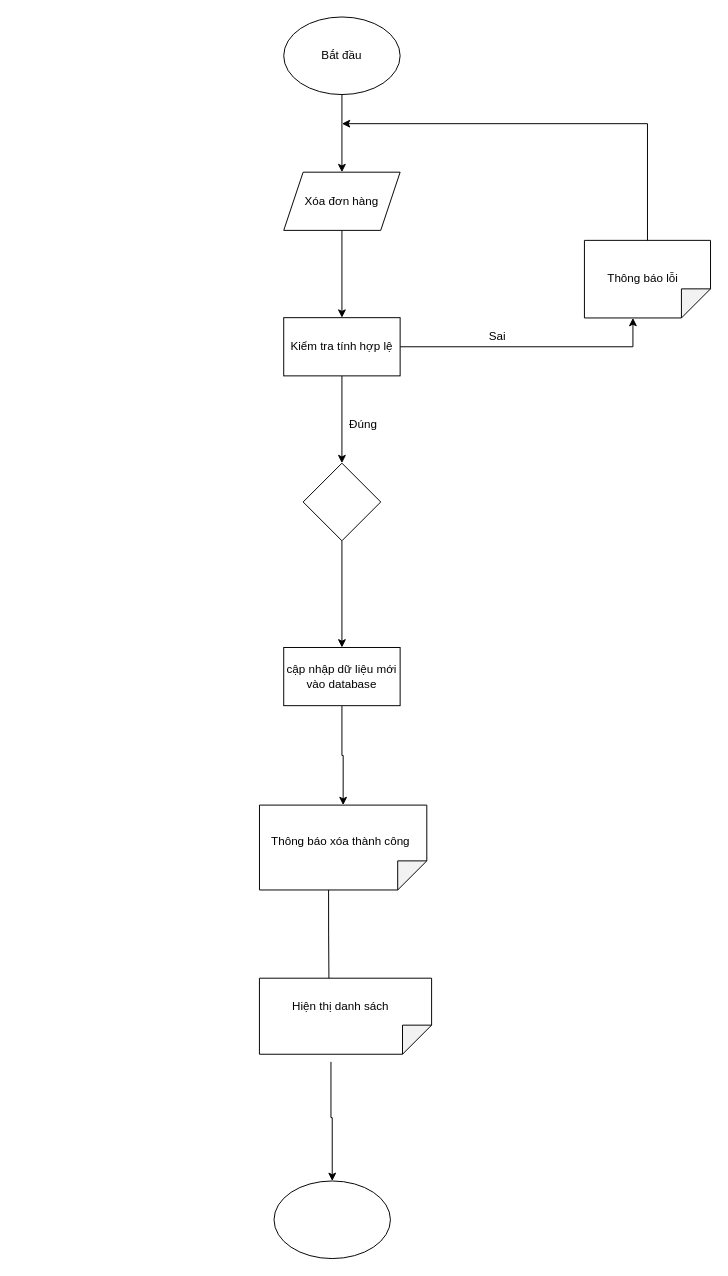
The diagram is 728 pixels wide and 1276 high, and some of its shapes have lost their labels. The shapes that lost their labels are listed below. From the top down, each one's centre as x and y in pixels, then its label:
At point 341,501: "Hợp lệ".
At point 331,1219: "Kết thúc".
